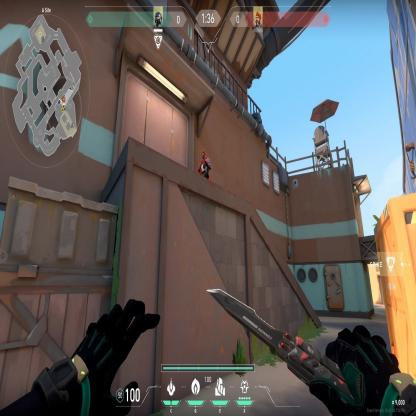enemy: (196, 149, 212, 181)
